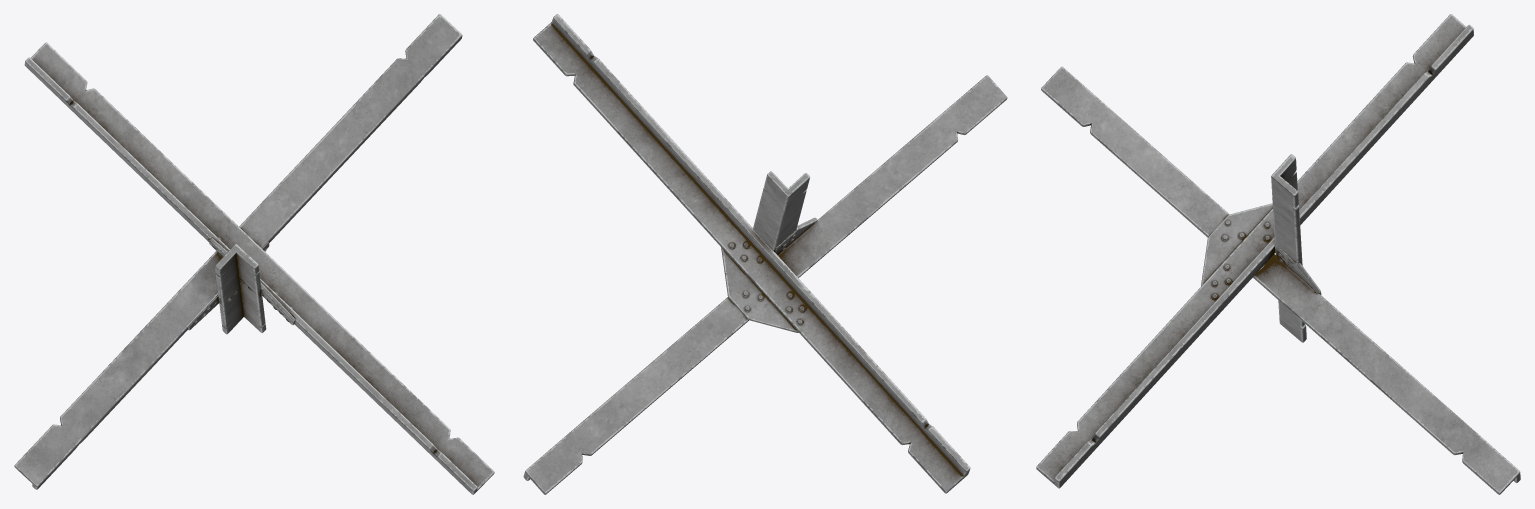
The picture shows the model from 3 angles, left to right: view 1: azimuth 30°, elevation 25°; view 2: azimuth 150°, elevation 25°; view 3: azimuth 270°, elevation 25°; orthographic projection.
Visible parts, largest first — view 1: pCube4, pCube1, pCube3; view 2: pCube4, pCube3, pCube1, pCube2; view 3: pCube1, pCube3, pCube4, pCube5.
Part boxes in pixels (x1,y1,x2,y2): pCube4: (14,14,462,489); pCube1: (24,42,494,494); pCube3: (215,244,266,334); pCube4: (533,14,970,493); pCube3: (523,75,1007,494); pCube1: (753,171,809,251); pCube2: (721,247,798,332); pCube1: (1036,14,1473,488); pCube3: (1041,66,1520,494); pCube4: (1271,154,1306,342); pCube5: (1201,203,1272,286).
Bounding box in the file's own units: 87.14 × 71.75 × 82.44.
Materials: 1 (1 with a texture image).
